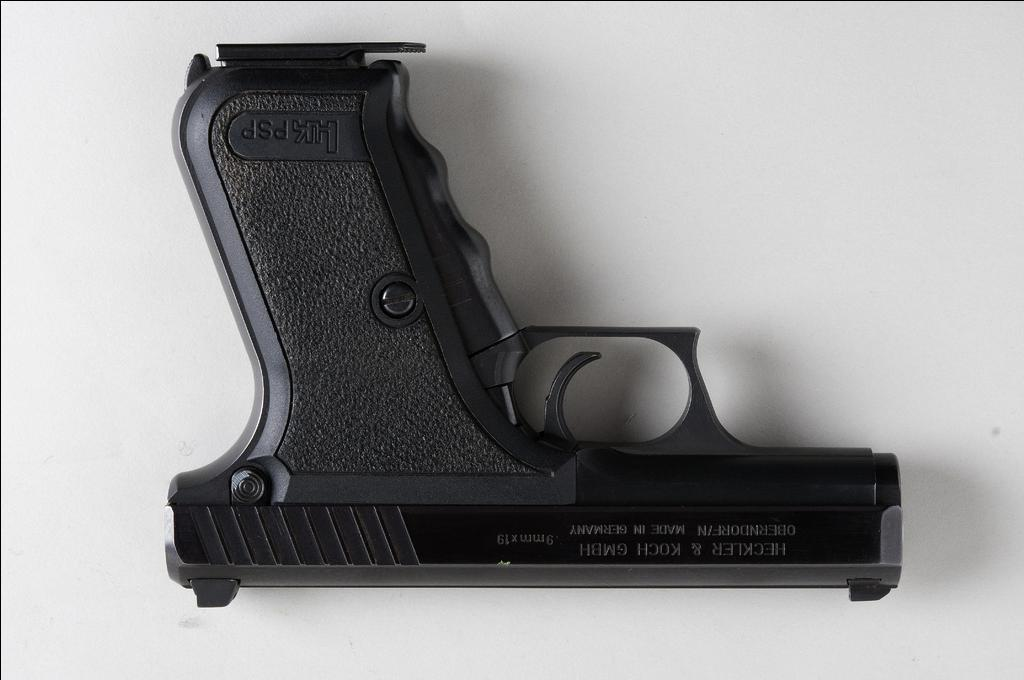gun: (154, 38, 904, 608)
